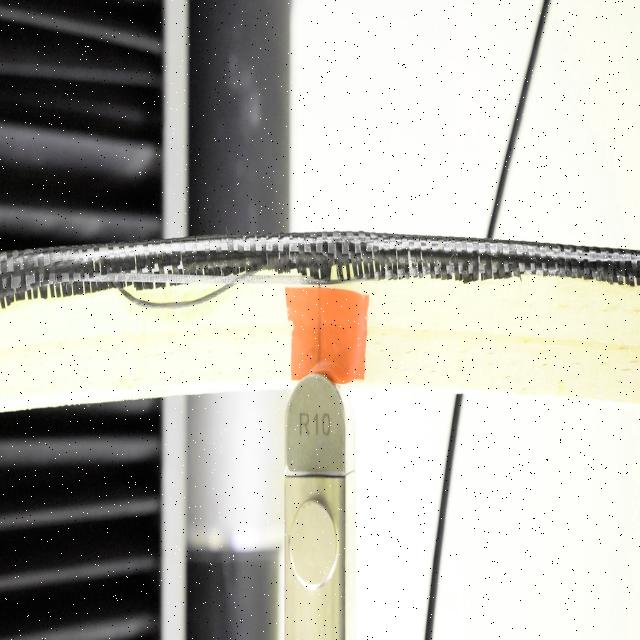wood: (1, 232, 638, 410)
